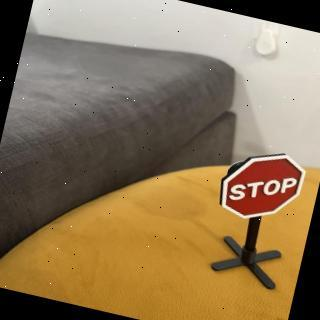sign_stop: (216, 142, 311, 231)
